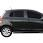car: (1, 7, 43, 35)
